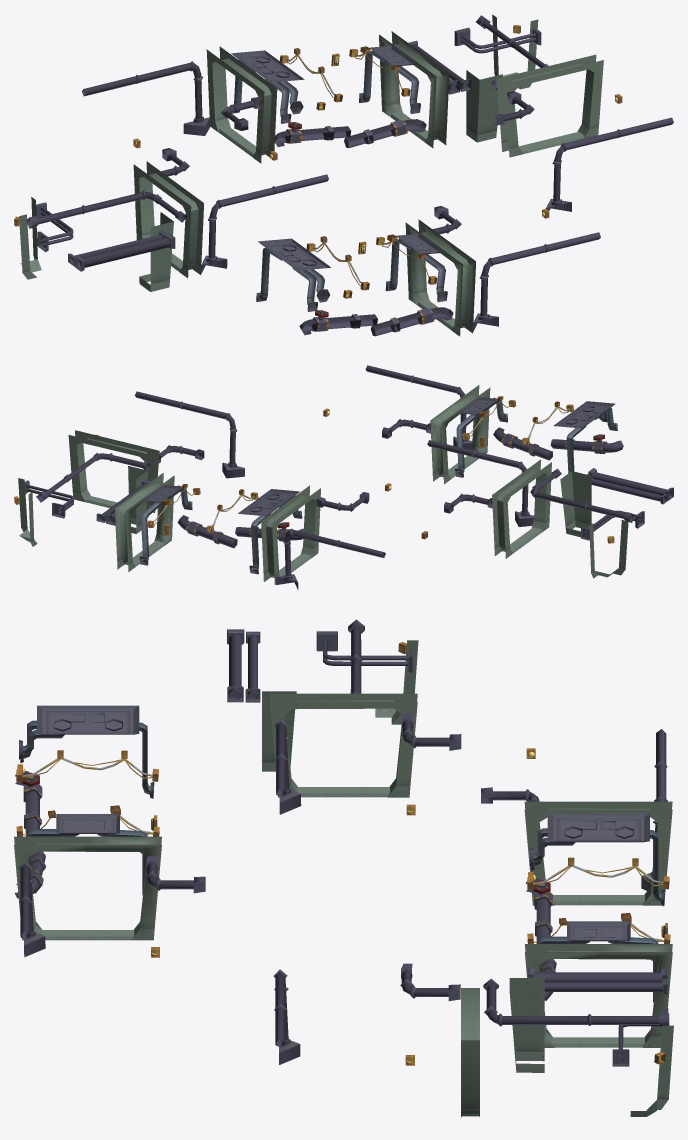
The model's file is Combined_Mesh_root_scene__4_e0ea2853__zombies2_diffuse_07_65562b6b_c1f257.obj.
The picture shows the model from 3 angles, top to bottom: view 1: azimuth 30°, elevation 25°; view 2: azimuth 150°, elevation 25°; view 3: azimuth 270°, elevation 25°; orthographic projection. The views are drawn at different scales.
Bounding box in the file's own units: 71.93 × 11.35 × 51.78.
51 materials, 51 textured.
